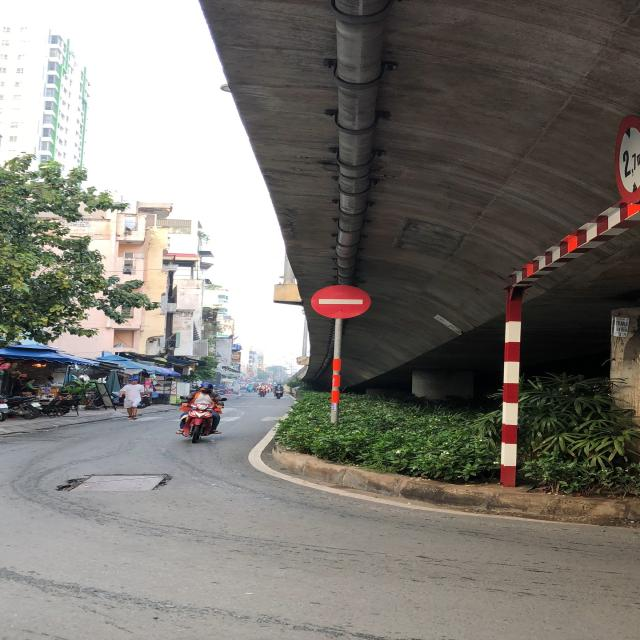Bien bao cam di nguoc chieu: (310, 279, 381, 325)
